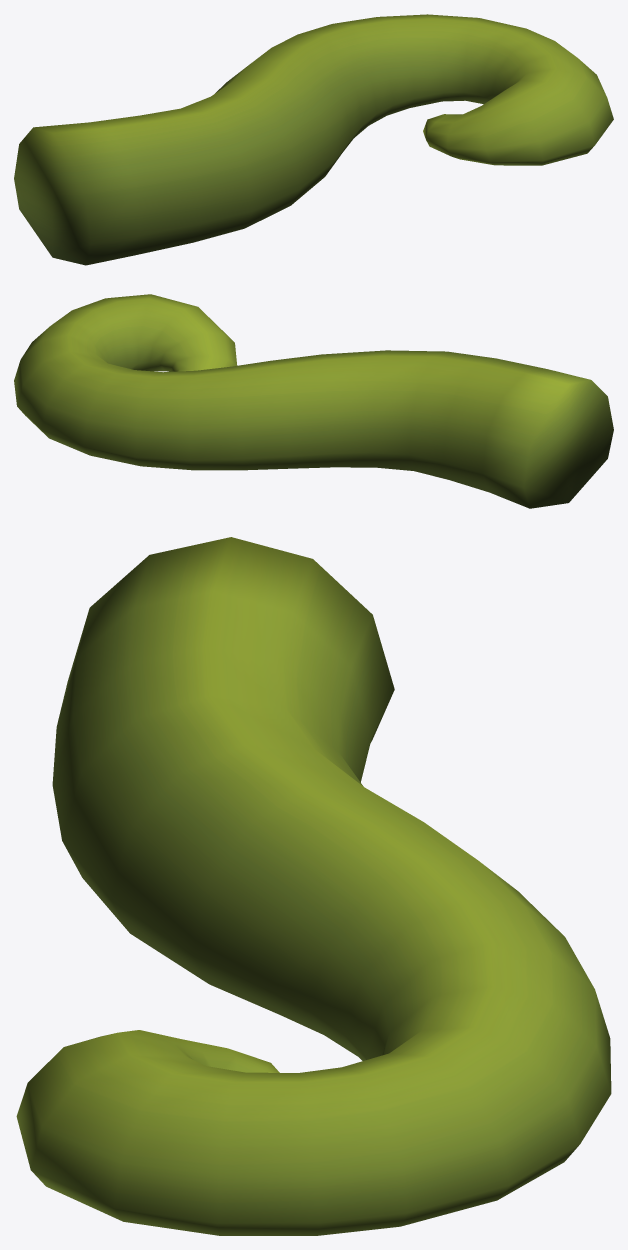
File: elf_ivy_curly.fbx
The picture shows the model from 3 angles, top to bottom: view 1: azimuth 30°, elevation 25°; view 2: azimuth 150°, elevation 25°; view 3: azimuth 270°, elevation 25°; orthographic projection. The views are drawn at different scales.
Visible parts, largest first — view 1: elf_ivy_curly; view 2: elf_ivy_curly; view 3: elf_ivy_curly.
Part boxes in pixels (x1,y1,x2,y2): elf_ivy_curly: (14, 14, 613, 265); elf_ivy_curly: (14, 294, 613, 508); elf_ivy_curly: (16, 537, 611, 1235).
Bounding box in the file's own units: 311 × 67.21 × 153.
